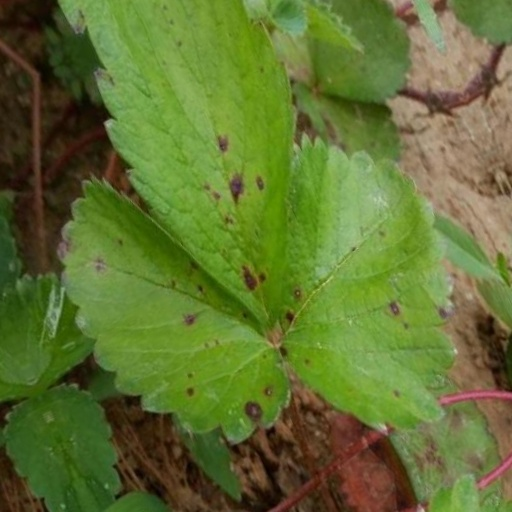Leaf Spot: (73, 161, 273, 484), (149, 0, 342, 333), (271, 109, 449, 420), (22, 36, 132, 172), (73, 113, 157, 230)
